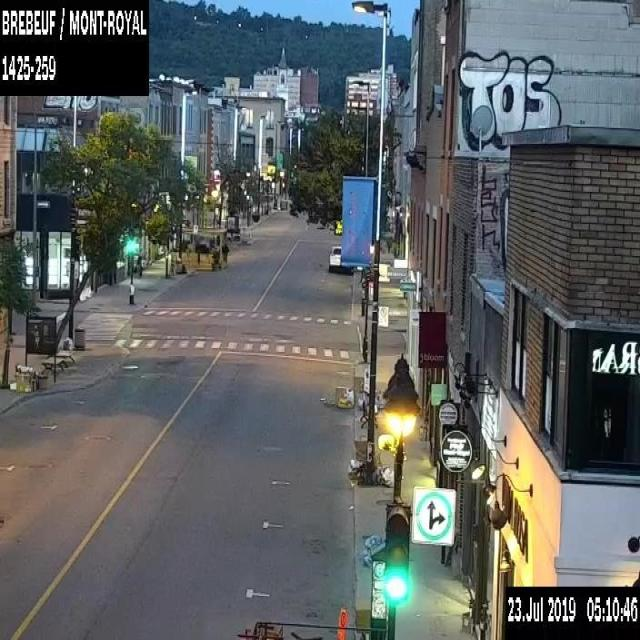vehicle: (325, 243, 353, 273)
